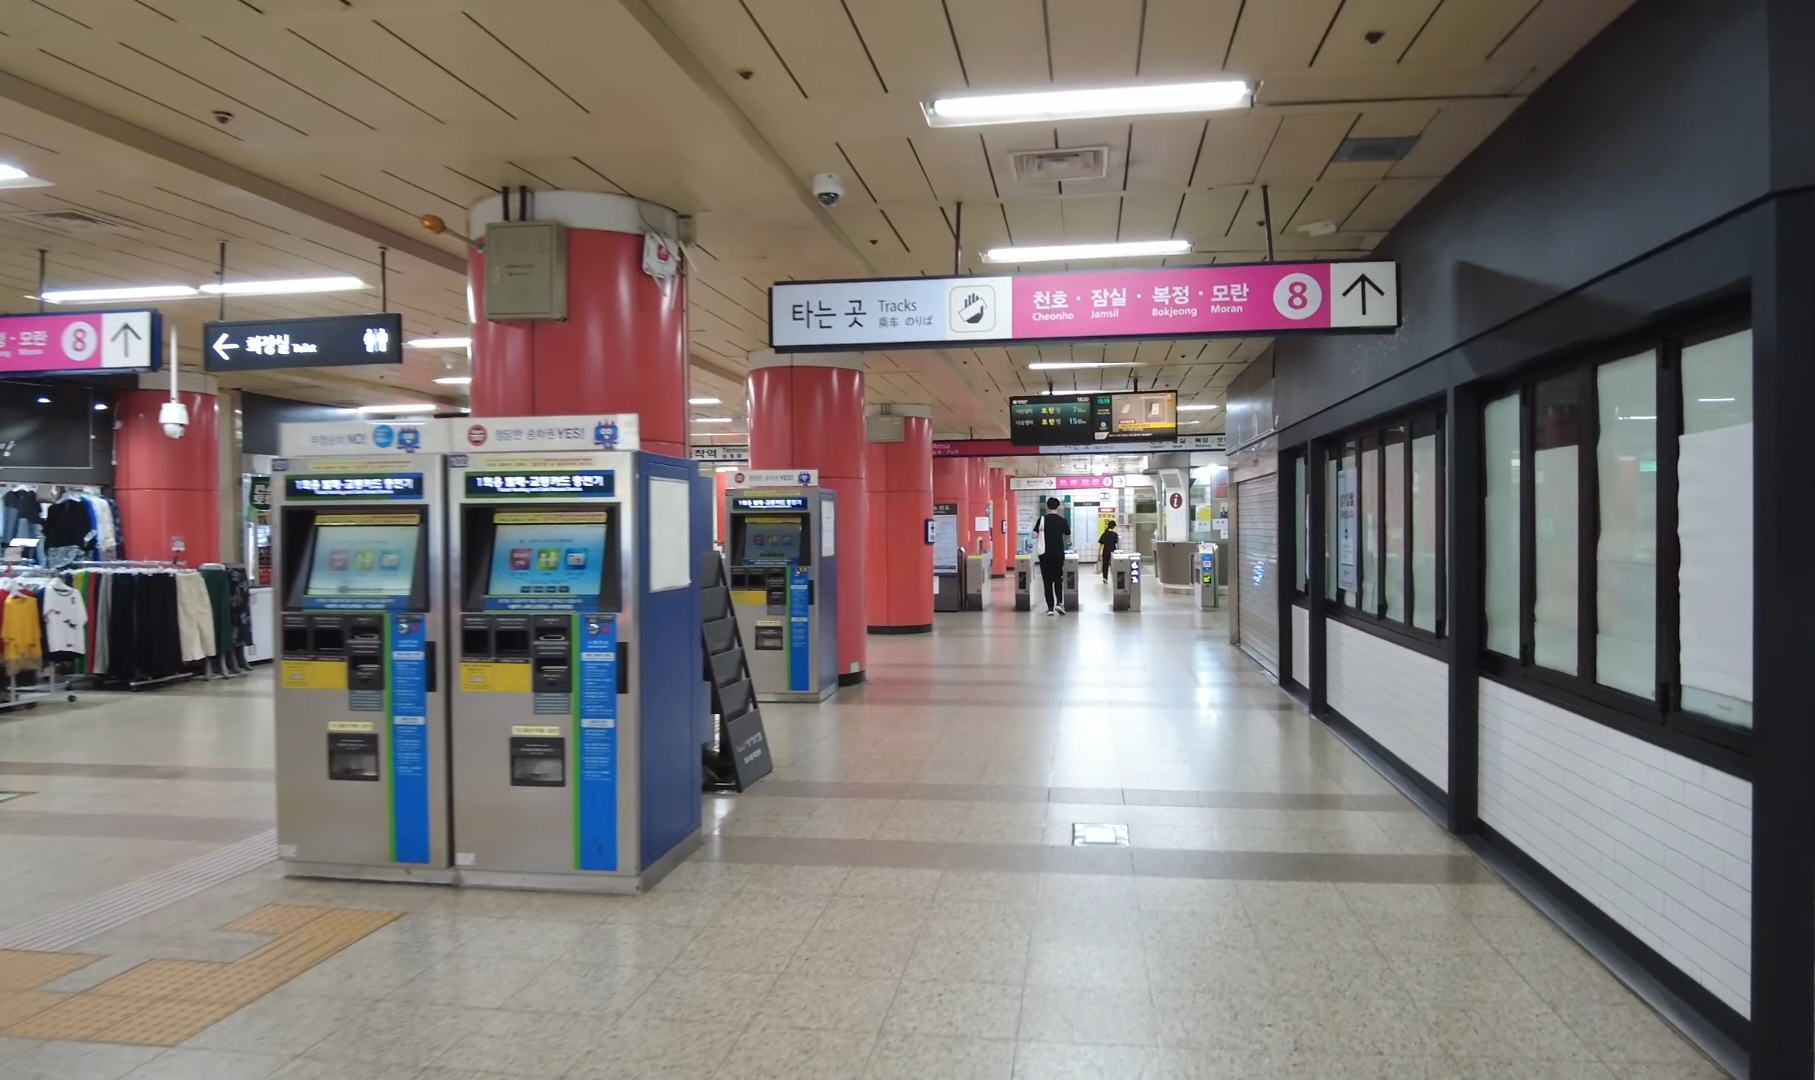signBoard: (761, 255, 1408, 354)
